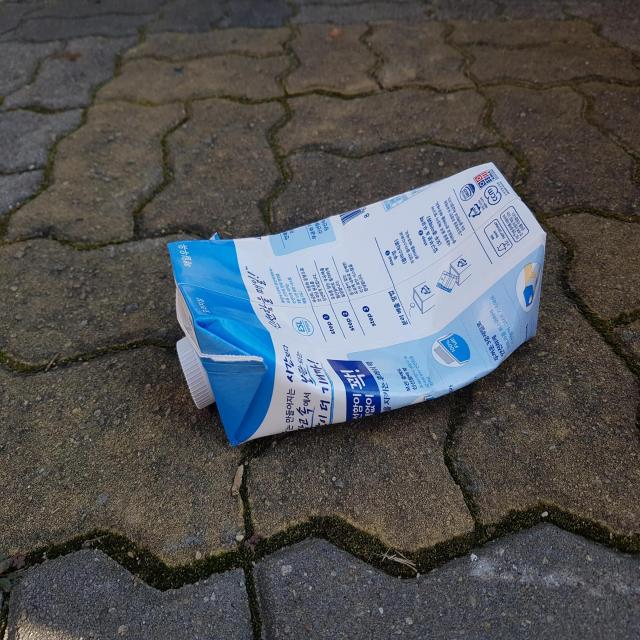paperpack: (168, 162, 547, 446)
